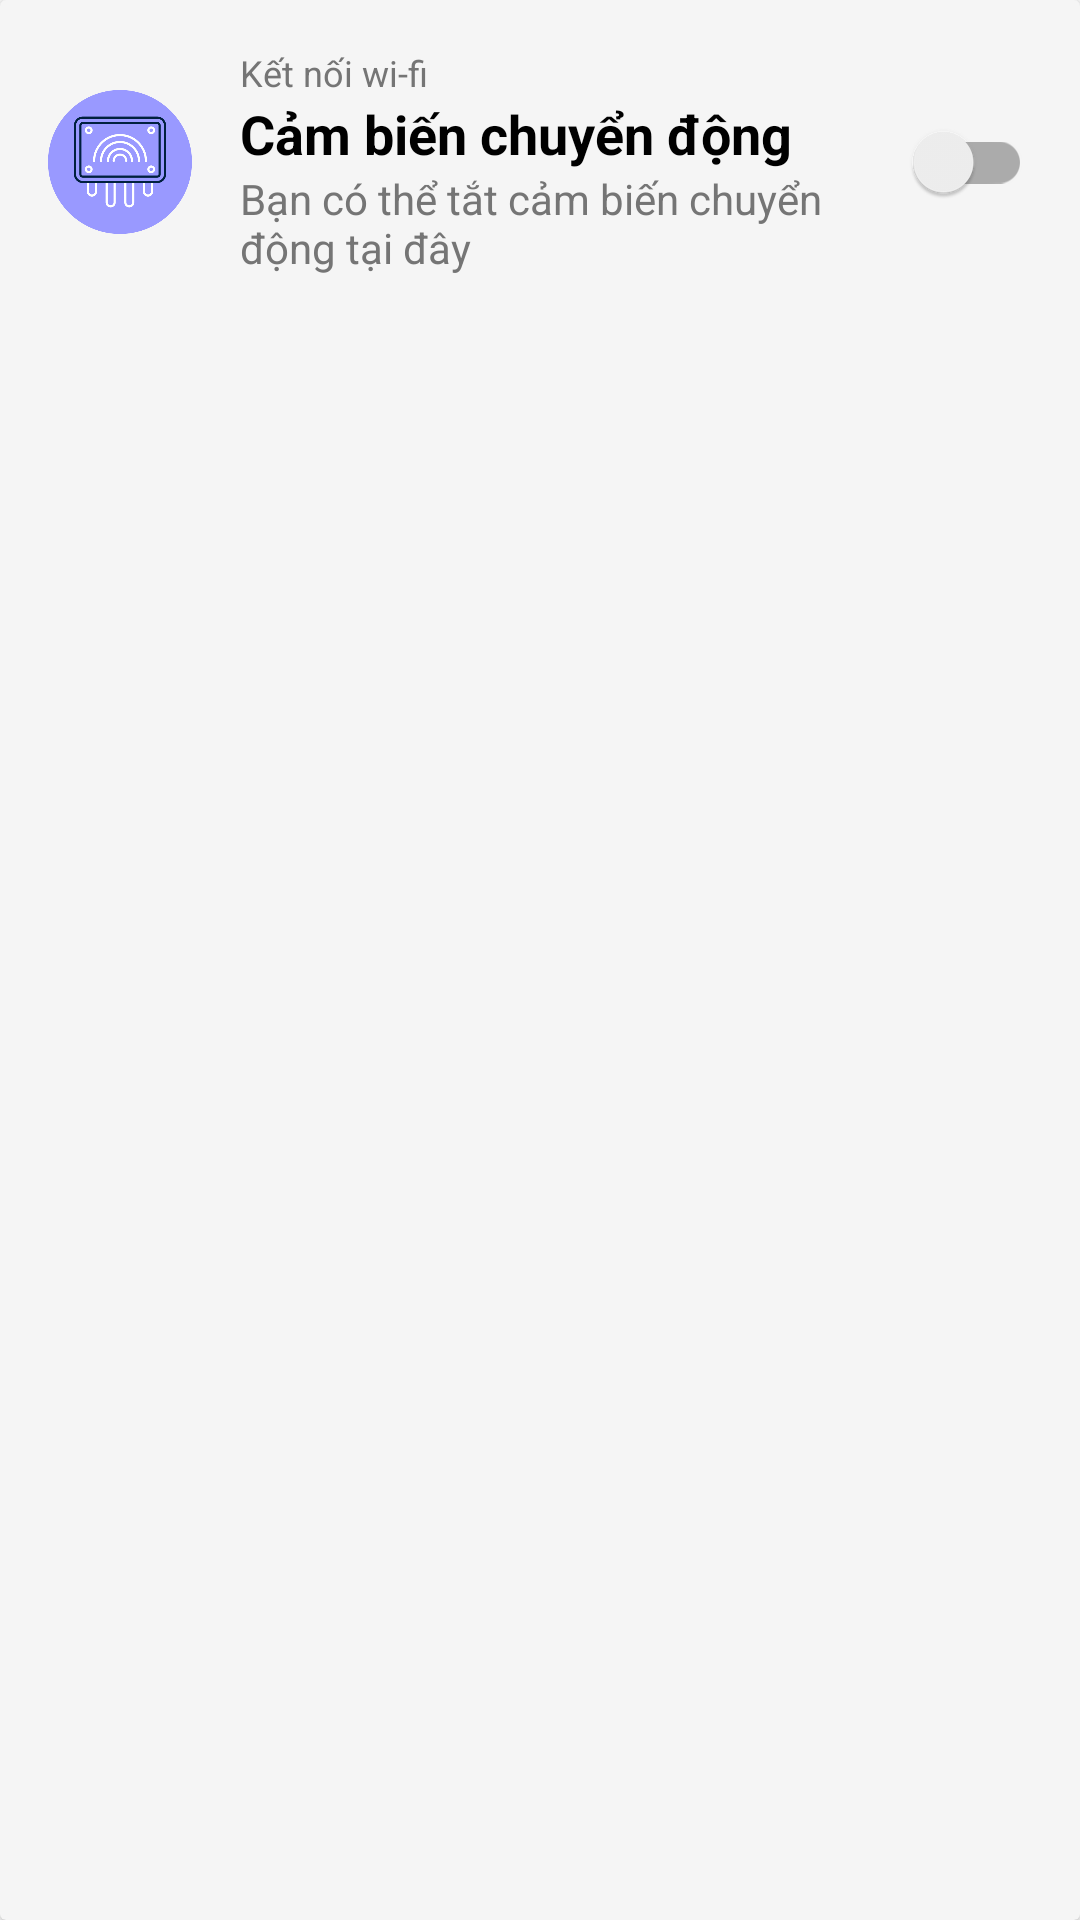

Icon bounding boxes for this 1080px x 1920px phone screenshot, format (x1, y1, x2, y2):
Device Icon: (48, 90, 192, 234)
